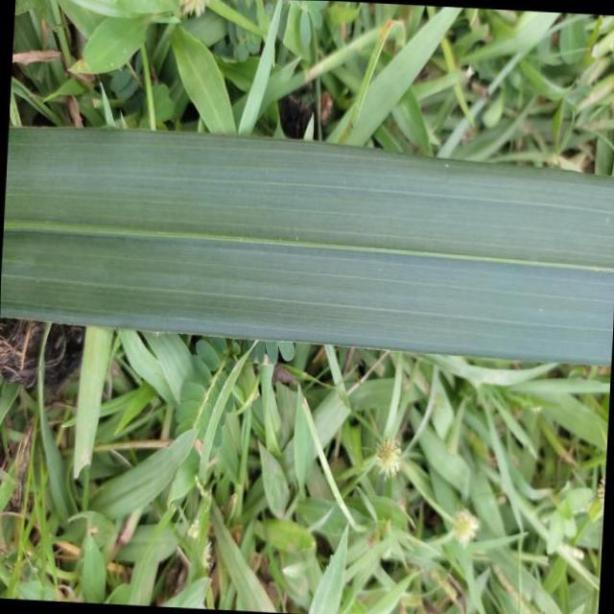Healthy: (5, 123, 614, 368)
